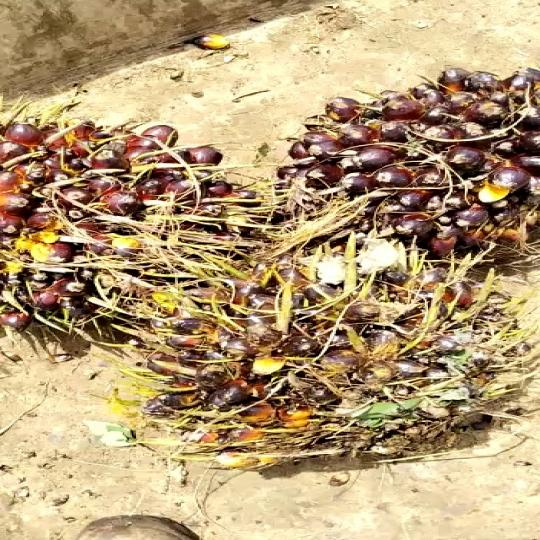kurang masak: (87, 215, 514, 465), (246, 46, 540, 265), (0, 117, 275, 337)
